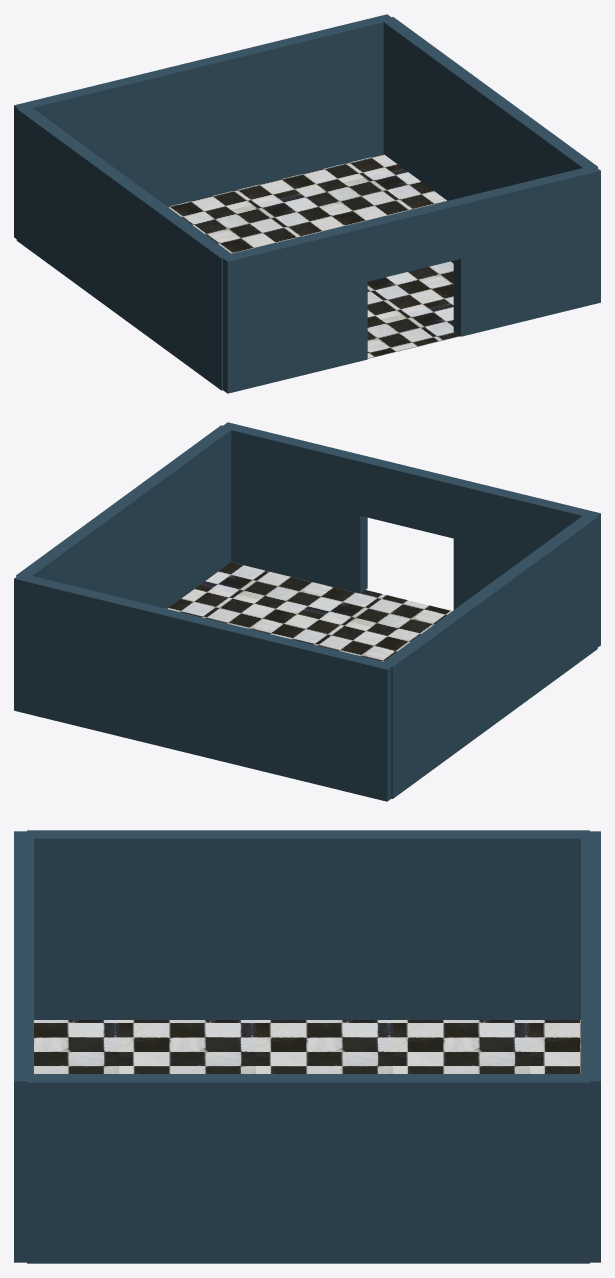
File: building.dae
The picture shows the model from 3 angles, top to bottom: view 1: azimuth 30°, elevation 25°; view 2: azimuth 150°, elevation 25°; view 3: azimuth 270°, elevation 25°; orthographic projection. The views are drawn at different scales.
Parts seen in each view (by area): view 1: Cube.002, Cube.001, Cube.003, Cube, Cube.004; view 2: Cube.001, Cube.002, Cube.003, Cube.004, Cube; view 3: Cube.004, Cube.003, Cube, Cube.002, Cube.001.
Part boxes in pixels (left/top/right/bottom): Cube.002: left=222, top=167, right=600, bottom=393; Cube.001: left=14, top=14, right=393, bottom=238; Cube.003: left=16, top=105, right=233, bottom=390; Cube: left=168, top=154, right=459, bottom=358; Cube.004: left=381, top=17, right=597, bottom=200; Cube.001: left=14, top=575, right=391, bottom=801; Cube.002: left=222, top=422, right=600, bottom=647; Cube.003: left=381, top=514, right=597, bottom=798; Cube.004: left=16, top=425, right=233, bottom=608; Cube: left=167, top=562, right=451, bottom=661; Cube.004: left=27, top=1074, right=589, bottom=1263; Cube.003: left=27, top=830, right=589, bottom=1019; Cube: left=34, top=1020, right=580, bottom=1073; Cube.002: left=14, top=831, right=33, bottom=1262; Cube.001: left=581, top=831, right=600, bottom=1262.
Bounding box in the file's own units: 299 × 294 × 101.
Materials: 2 (1 with a texture image).
